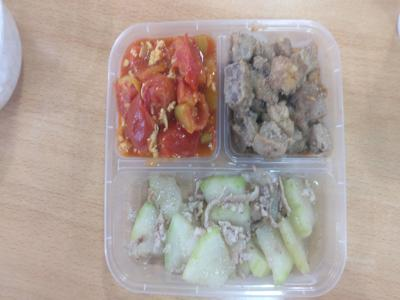dg: (118, 172, 325, 285)
jdxhs: (116, 34, 224, 162)
wz: (229, 32, 336, 158)
